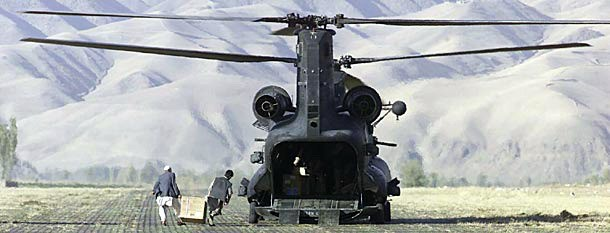chinook: (109, 14, 608, 225)
